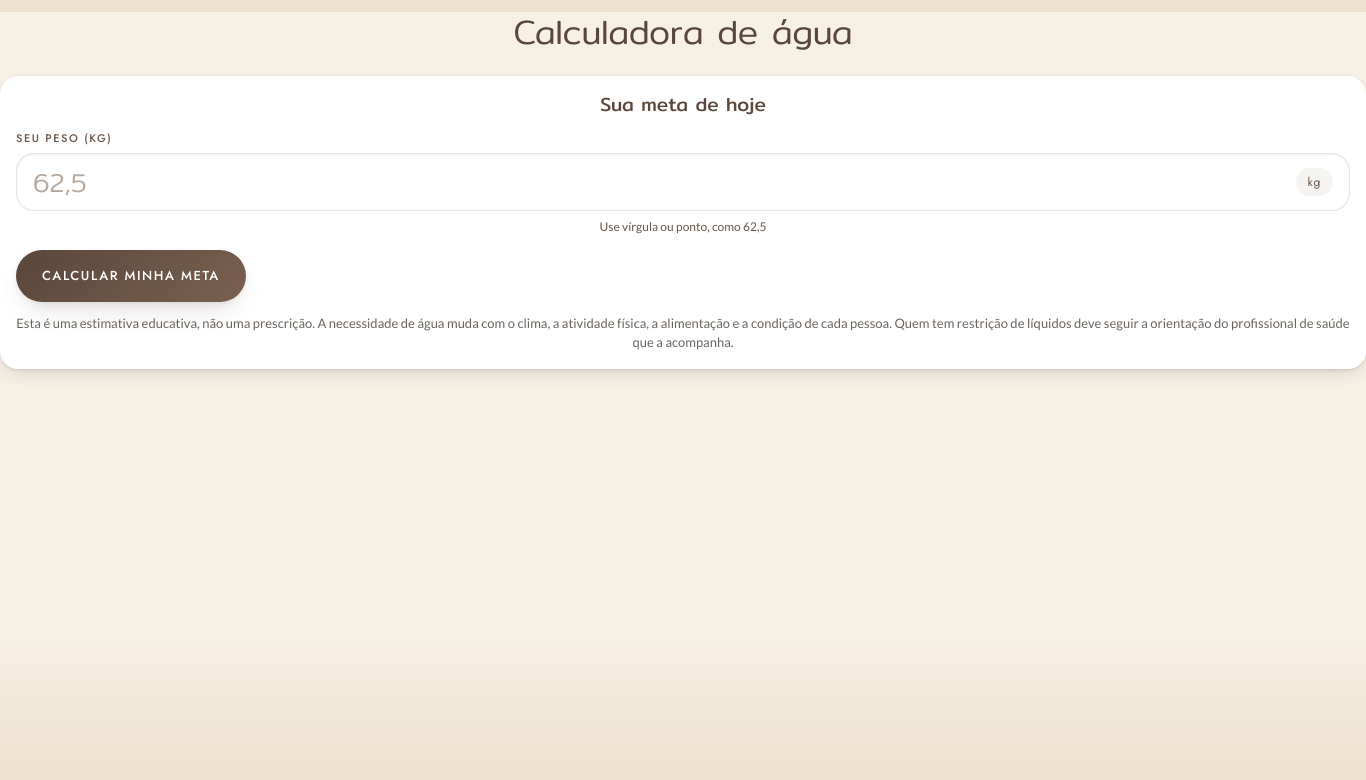
Test: WaterPage — calculadora de água › recusa peso fora do aceitável, sem salvar
This screenshot has width=1366, height=780.
In the field labelled "Seu peso (kg)": (660, 182) [33,154,1288,210], type "5"
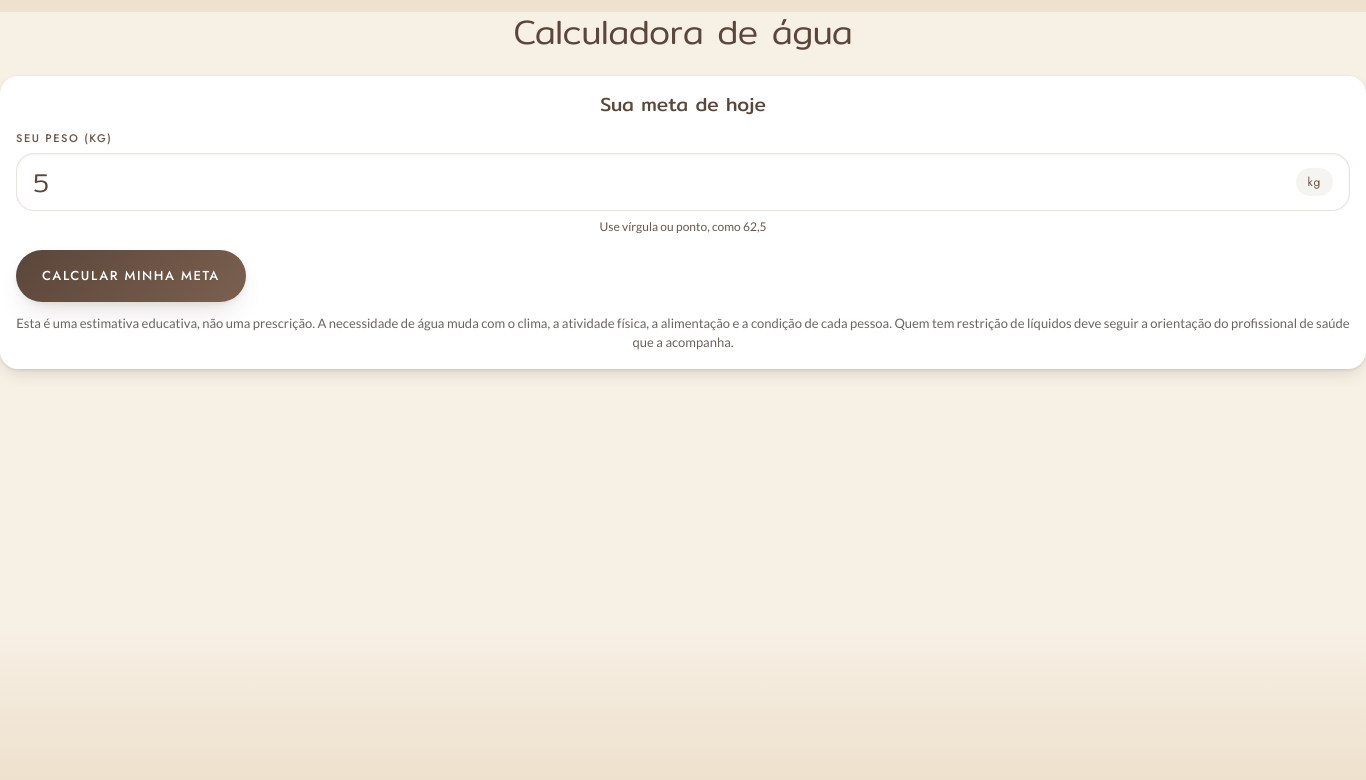
Click the button "Calcular minha meta": (131, 276) [16,250,246,302]
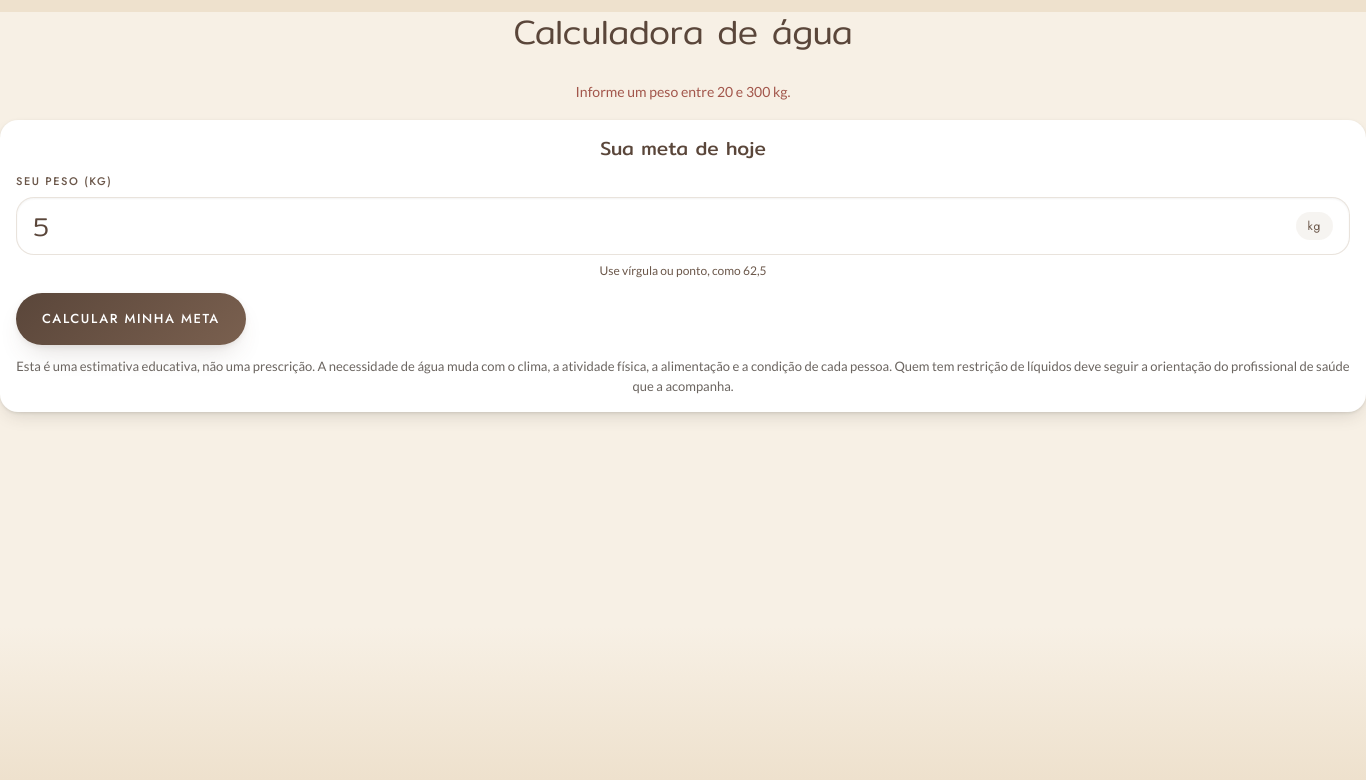
Expected: the text "Informe um peso entre 20 e 300 kg." is shown, [576,83,790,100]
